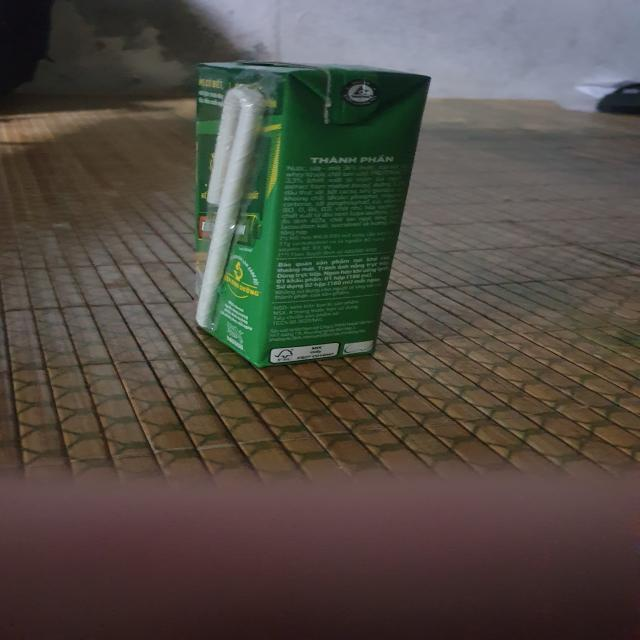Milo: (180, 56, 437, 375)
